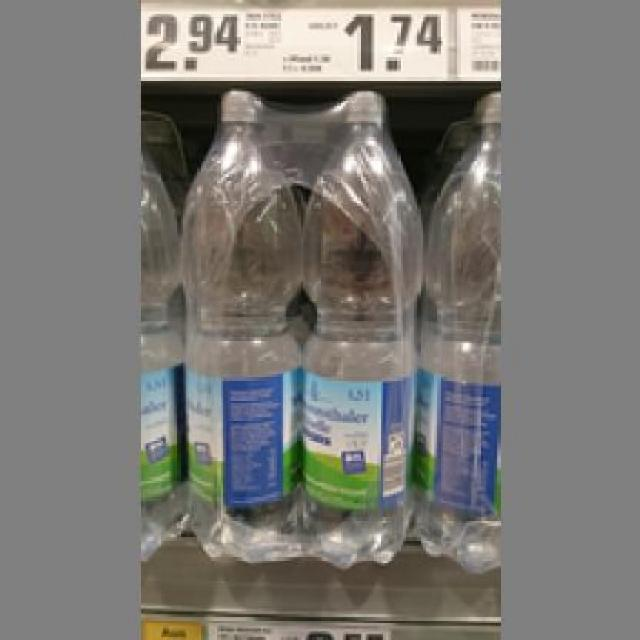Water: (297, 91, 417, 572), (180, 86, 300, 554), (414, 86, 494, 572)
